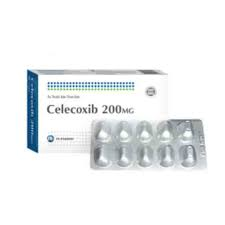Celecoxip: (46, 104, 98, 114)
